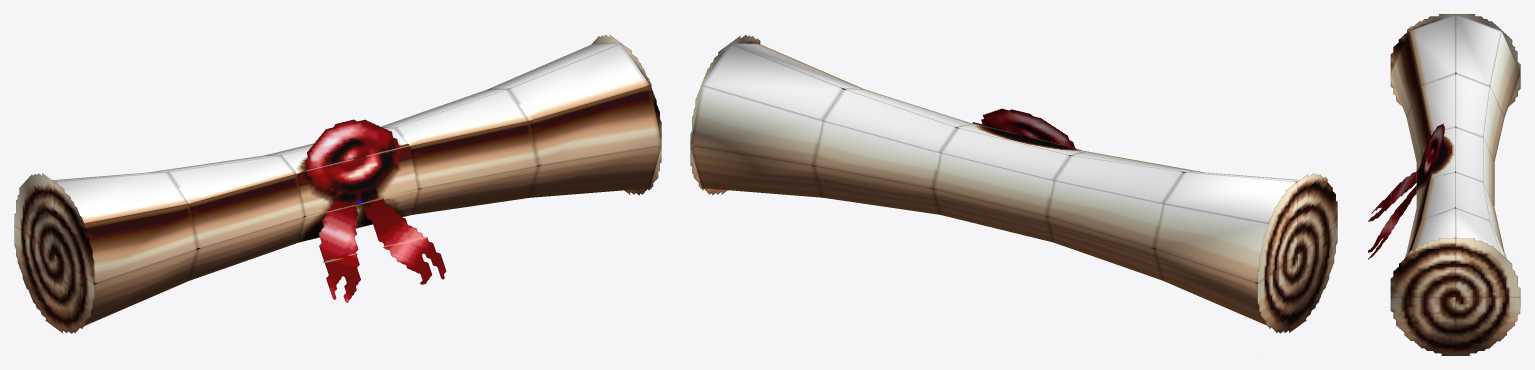
3 views of the same model, side by side, from view 1: azimuth 30°, elevation 25°; view 2: azimuth 150°, elevation 25°; view 3: azimuth 270°, elevation 25° (orthographic). The views are drawn at different scales.
Visible parts, largest first — view 1: T1L7M001_6; view 2: T1L7M001_6; view 3: T1L7M001_6.
Boxes of the visible parts, x1,y1,x2,y2 form: T1L7M001_6: (14, 34, 661, 333); T1L7M001_6: (690, 35, 1337, 333); T1L7M001_6: (1368, 14, 1520, 355).
Bounding box in the file's own units: 1.39 × 0.3418 × 0.4043.
